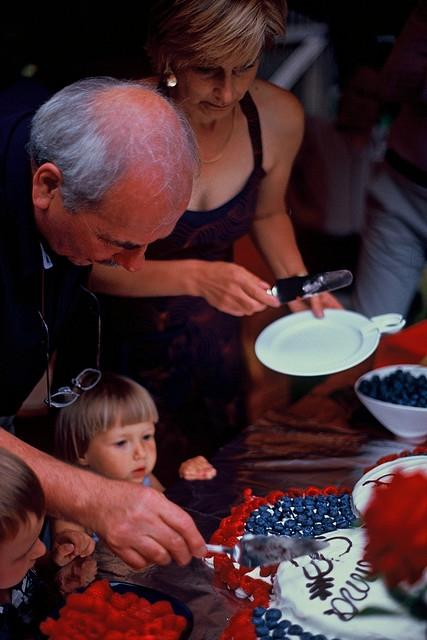blueberry: (265, 608, 282, 622), (254, 626, 270, 638), (288, 624, 304, 635), (272, 628, 286, 640), (311, 512, 325, 524), (336, 518, 350, 530), (251, 616, 265, 628), (323, 522, 337, 534), (359, 380, 372, 392), (252, 606, 266, 617), (276, 620, 291, 630), (406, 386, 418, 398), (294, 514, 308, 524), (265, 620, 278, 630), (255, 516, 268, 526), (394, 369, 404, 382), (350, 518, 364, 527), (280, 528, 292, 538), (302, 518, 314, 528), (317, 506, 329, 516), (303, 508, 315, 518), (339, 503, 352, 512), (284, 519, 297, 528), (302, 498, 316, 506), (312, 528, 326, 536), (359, 386, 370, 396), (301, 532, 314, 540), (300, 632, 313, 640), (393, 382, 403, 392), (340, 508, 352, 516), (338, 498, 350, 506), (328, 509, 340, 517), (322, 517, 334, 525), (314, 494, 326, 502), (263, 522, 274, 530), (302, 526, 313, 534), (406, 399, 418, 406), (259, 505, 271, 512), (246, 522, 254, 532), (294, 506, 304, 514), (282, 507, 292, 515), (334, 514, 344, 522), (346, 514, 356, 522), (370, 392, 380, 400), (268, 516, 279, 523), (305, 495, 316, 502), (328, 494, 336, 503), (400, 394, 409, 402), (250, 511, 260, 518), (314, 501, 324, 508), (291, 531, 302, 537), (416, 378, 424, 386), (376, 386, 384, 394), (403, 382, 411, 390), (404, 377, 412, 385), (394, 399, 404, 405), (416, 402, 426, 408), (336, 493, 346, 499), (280, 496, 290, 502), (294, 525, 302, 532), (419, 374, 426, 382), (410, 394, 418, 401), (384, 392, 391, 400), (420, 389, 427, 397), (293, 497, 304, 502), (275, 526, 284, 532), (253, 525, 260, 532), (306, 506, 316, 510), (386, 378, 392, 384), (274, 502, 280, 508), (330, 506, 338, 510), (284, 497, 290, 502), (388, 387, 394, 392), (376, 381, 382, 386), (282, 525, 286, 529), (392, 381, 394, 384)
raspberry: (82, 581, 110, 600), (66, 593, 94, 610), (106, 616, 132, 634), (84, 620, 107, 640), (151, 601, 175, 618), (214, 552, 232, 574), (76, 613, 94, 632), (233, 626, 257, 640), (227, 568, 242, 590), (239, 575, 254, 597), (134, 608, 154, 624), (209, 528, 229, 544), (40, 617, 56, 636), (266, 490, 285, 506), (124, 617, 144, 632), (251, 578, 272, 592), (142, 622, 162, 636), (122, 592, 139, 608), (225, 522, 244, 536), (248, 496, 268, 509), (234, 503, 254, 516), (62, 620, 78, 636), (172, 616, 187, 632), (162, 614, 177, 630), (233, 616, 253, 628), (252, 588, 270, 601), (108, 592, 122, 608), (92, 598, 106, 614), (162, 628, 180, 640), (322, 484, 338, 497), (222, 536, 239, 548), (252, 596, 269, 608), (104, 630, 124, 640), (305, 487, 322, 498), (220, 516, 233, 530), (287, 488, 305, 498), (115, 598, 130, 610), (239, 564, 255, 575), (124, 629, 140, 640), (106, 600, 116, 617), (59, 605, 72, 618), (364, 464, 378, 475), (229, 612, 240, 626), (338, 486, 353, 496), (128, 604, 138, 618), (232, 514, 249, 522), (239, 608, 254, 617), (138, 598, 150, 608), (260, 568, 272, 578), (71, 633, 88, 640), (412, 446, 426, 454), (376, 457, 390, 465), (228, 624, 239, 634), (107, 608, 119, 617), (138, 634, 156, 640), (92, 612, 104, 620), (387, 454, 400, 461), (270, 564, 279, 574), (55, 634, 70, 640), (220, 634, 233, 640), (400, 450, 411, 457), (57, 616, 66, 624), (231, 506, 237, 516), (154, 634, 164, 640)
